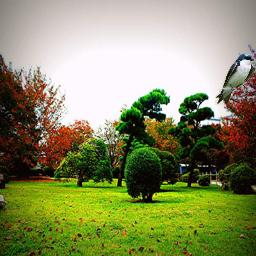Swallow: (215, 53, 255, 105)
